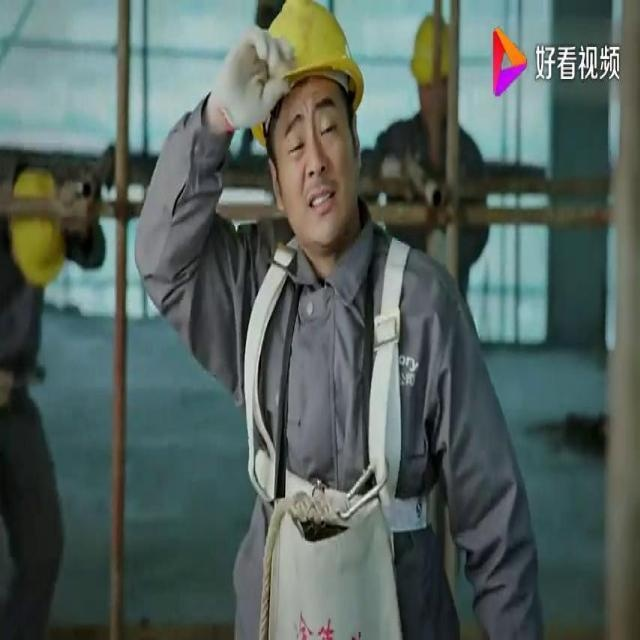Arnes_seguridad: (236, 208, 447, 538)
